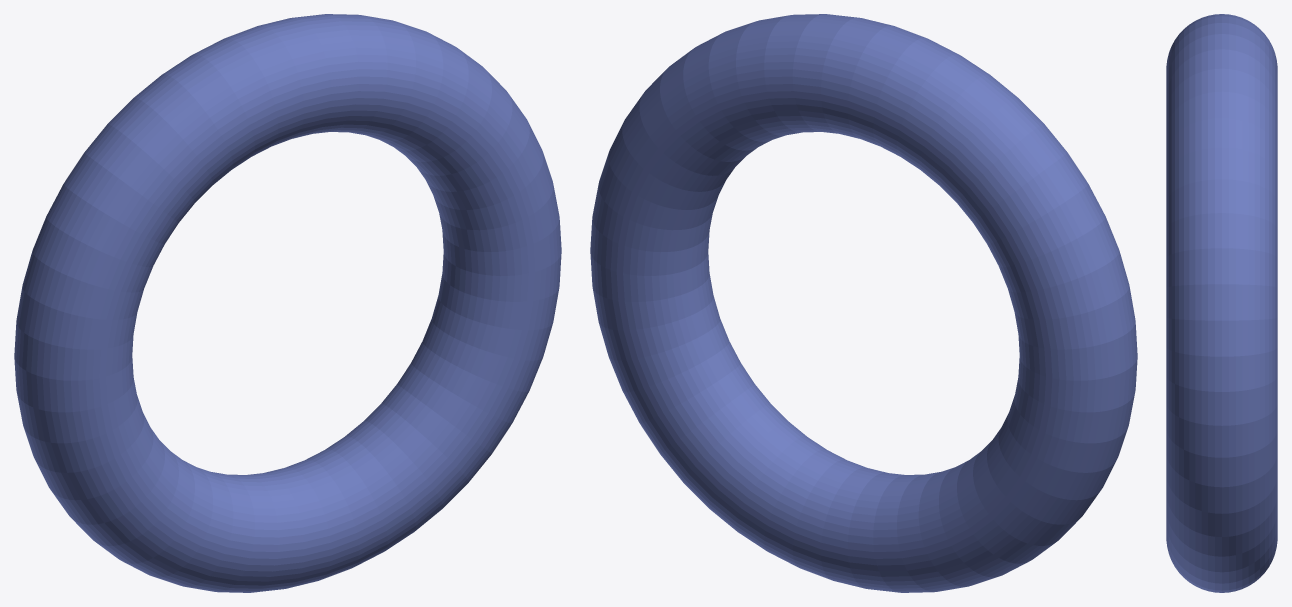
3 views of the same model, side by side, from view 1: azimuth 30°, elevation 25°; view 2: azimuth 150°, elevation 25°; view 3: azimuth 270°, elevation 25° (orthographic). The views are drawn at different scales.
Parts seen in each view (by area): view 1: world; view 2: world; view 3: world.
Part boxes in pixels (x1,y1,x2,y2): world: [14, 14, 561, 592]; world: [590, 14, 1137, 592]; world: [1166, 14, 1277, 592].
Size of the model in its own units: 17.33 by 17.3 by 3.33.
